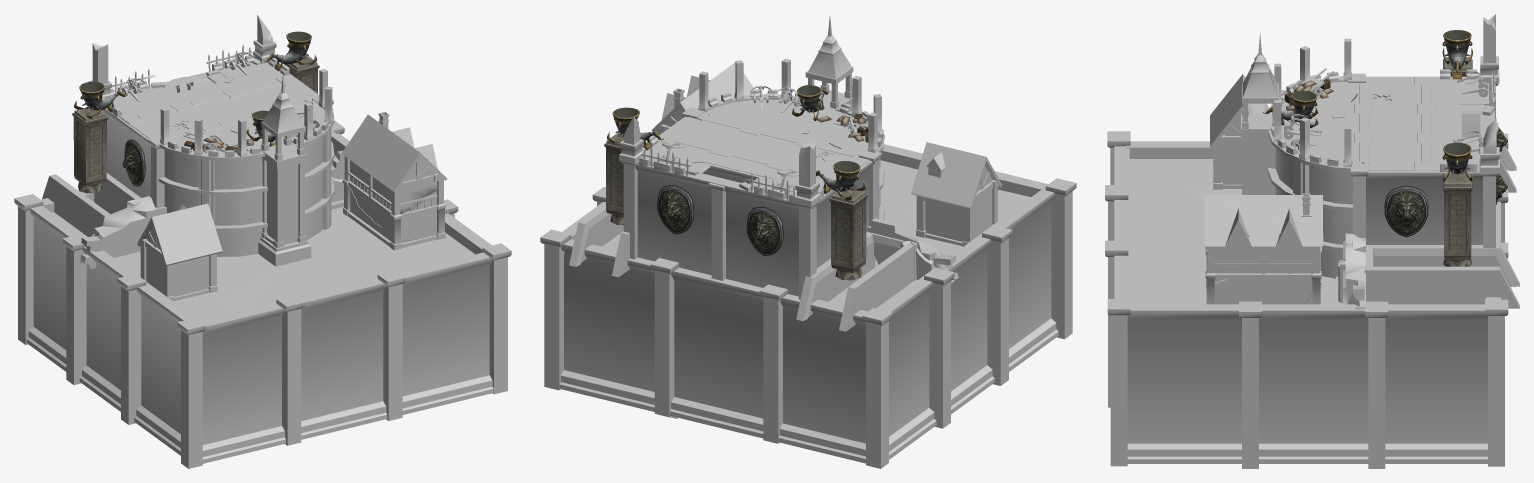
File: Cell3LR.fbx
3 renders of one model, left to right at view 1: azimuth 30°, elevation 25°; view 2: azimuth 150°, elevation 25°; view 3: azimuth 270°, elevation 25°, orthographic. The views are drawn at different scales.
Visible parts, largest first — view 1: Cell3LR; view 2: Cell3LR; view 3: Cell3LR.
Part boxes in pixels (x1,y1,x2,y2): Cell3LR: (14,14,511,468); Cell3LR: (540,16,1076,468); Cell3LR: (1105,14,1519,468).
Bounding box in the file's own units: 35.8 × 32.86 × 34.7.
